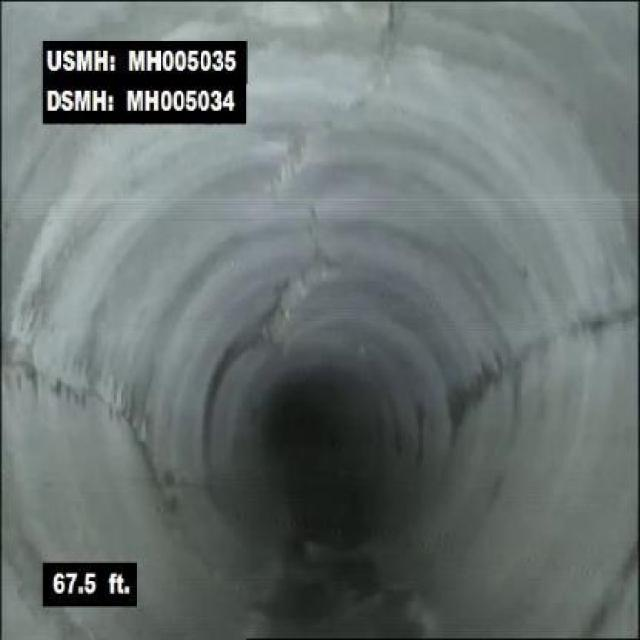Buckling: (336, 5, 412, 110), (260, 123, 322, 205)
Crack: (0, 351, 140, 435), (522, 303, 638, 357)
